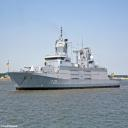Fragata: (6, 25, 123, 92)
